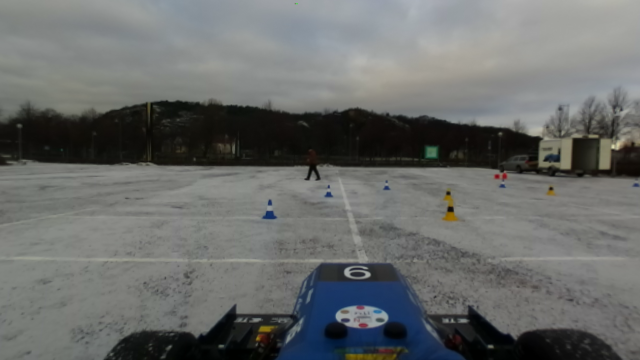blue: (260, 199, 279, 218)
yellow: (438, 200, 461, 222)
